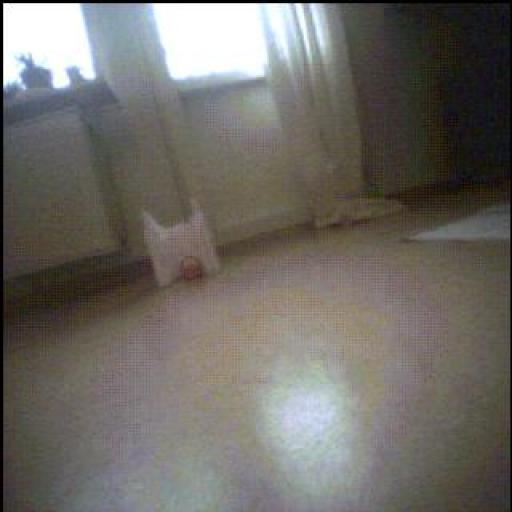Basket: (181, 258, 206, 284)
